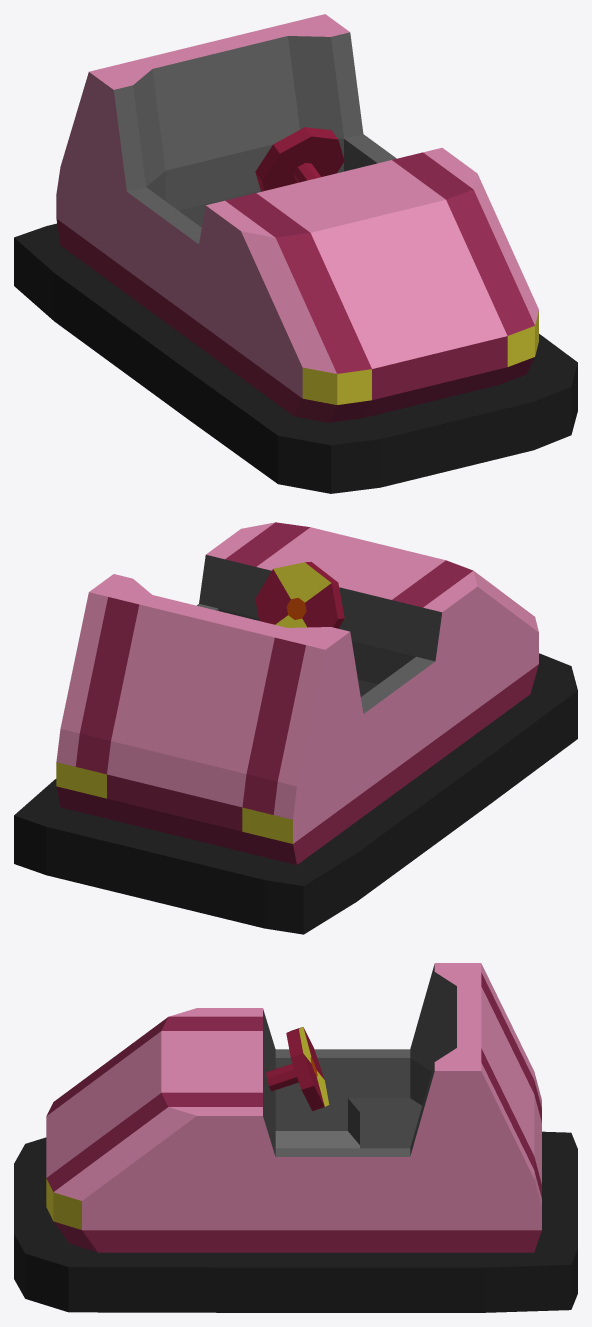
File: BumperCar04.fbx
3 renders of one model, top to bottom at view 1: azimuth 30°, elevation 25°; view 2: azimuth 150°, elevation 25°; view 3: azimuth 270°, elevation 25°, orthographic. The views are drawn at different scales.
Visible parts, largest first — view 1: BumperCar04; view 2: BumperCar04; view 3: BumperCar04.
Boxes of the visible parts, x1,y1,x2,y2 form: BumperCar04: (14, 14, 577, 493); BumperCar04: (14, 522, 577, 934); BumperCar04: (14, 963, 577, 1312).
Size of the model in its own units: 132 by 101 by 228.
